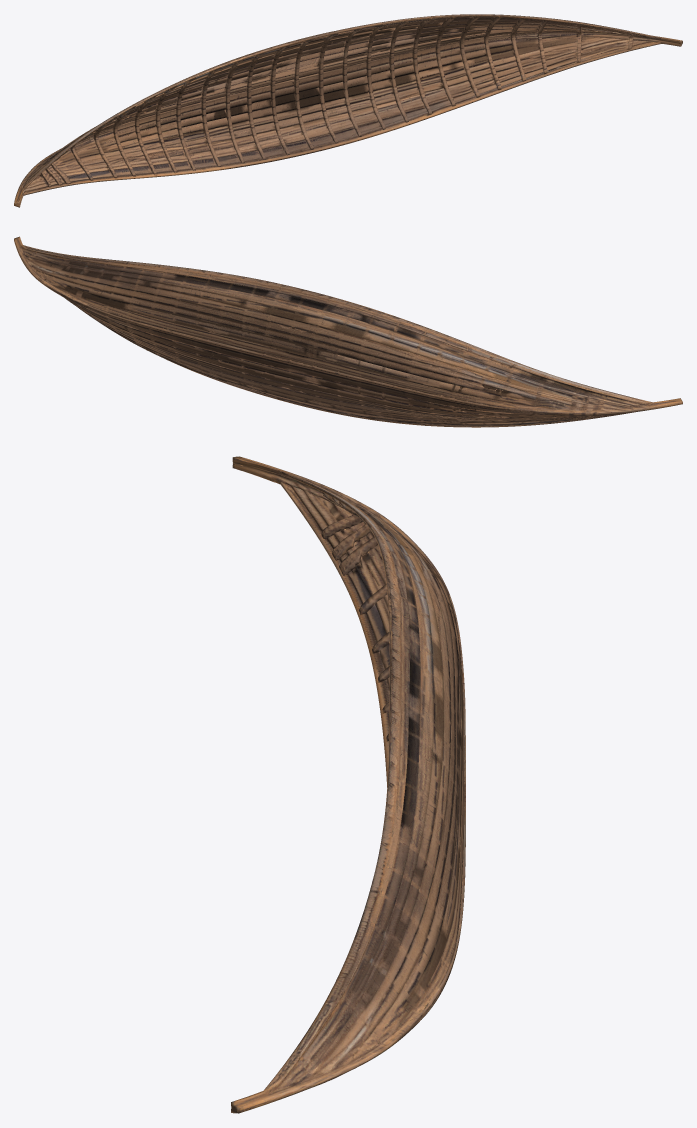
Rendered from textured-ship02.glb.
3 views of the same model, one above another, from view 1: azimuth 30°, elevation 25°; view 2: azimuth 150°, elevation 25°; view 3: azimuth 270°, elevation 25° (orthographic). The views are drawn at different scales.
Parts seen in each view (by area): view 1: Mesh_0; view 2: Mesh_0; view 3: Mesh_0.
Part boxes in pixels (bbox=[...]): Mesh_0: bbox=[14, 14, 682, 207]; Mesh_0: bbox=[14, 236, 682, 427]; Mesh_0: bbox=[231, 456, 465, 1113].
Size of the model in its own units: 163 by 27 by 24.78.
Materials: 1 (1 with a texture image).
